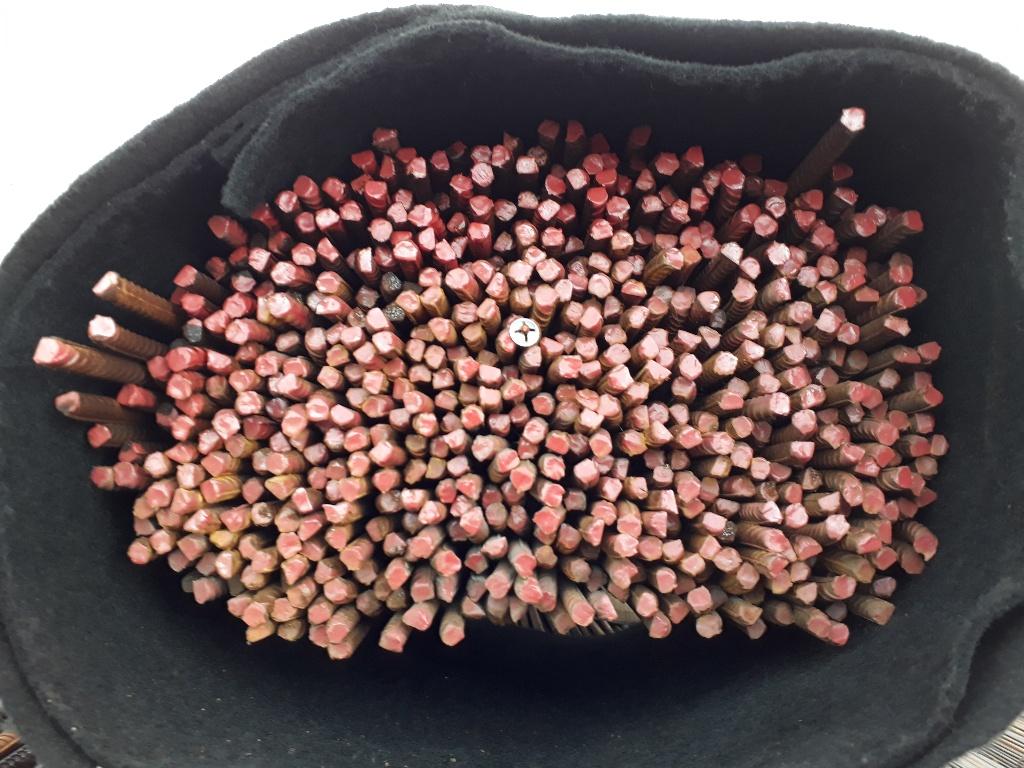dipstick: (645, 487, 682, 515), (913, 526, 940, 563), (673, 470, 703, 503), (211, 408, 242, 439), (220, 504, 253, 533), (385, 558, 413, 591), (320, 576, 353, 604), (176, 462, 208, 490), (263, 475, 298, 500), (402, 604, 433, 632), (91, 270, 122, 298), (220, 291, 252, 318), (274, 500, 300, 533), (297, 511, 325, 541), (141, 450, 171, 478), (433, 573, 460, 604), (398, 486, 430, 512), (339, 477, 372, 502), (183, 508, 216, 533), (177, 534, 210, 559), (823, 514, 852, 542), (281, 408, 309, 437), (372, 466, 402, 493), (369, 440, 399, 467), (276, 530, 303, 560), (341, 427, 372, 453), (268, 260, 299, 286), (782, 363, 814, 388), (669, 423, 702, 447), (166, 441, 199, 465), (654, 150, 682, 178), (620, 428, 648, 456), (281, 557, 309, 585), (88, 313, 116, 341), (849, 211, 878, 238), (792, 409, 821, 436), (687, 584, 714, 613), (588, 270, 615, 299), (512, 220, 541, 247), (356, 588, 383, 617), (53, 389, 82, 416), (532, 506, 566, 529), (900, 545, 926, 575), (620, 304, 650, 330), (165, 373, 195, 399), (417, 499, 448, 524), (796, 384, 828, 408), (241, 416, 274, 439), (174, 393, 207, 416), (677, 353, 705, 380), (765, 278, 793, 305), (670, 285, 698, 312), (459, 402, 486, 430), (483, 272, 511, 299), (588, 428, 614, 457), (413, 410, 442, 436), (377, 628, 406, 654), (338, 546, 367, 572), (315, 236, 341, 265), (169, 414, 198, 440), (224, 315, 250, 344), (695, 612, 725, 637), (455, 474, 485, 499), (881, 314, 912, 338), (783, 300, 814, 324), (431, 551, 462, 575), (363, 394, 395, 417), (319, 502, 354, 523), (814, 307, 841, 334), (870, 601, 897, 628), (616, 512, 643, 539), (543, 429, 570, 456), (471, 258, 498, 285), (444, 265, 471, 292), (364, 515, 391, 542), (344, 450, 371, 477), (324, 523, 351, 550), (145, 483, 172, 510), (87, 422, 114, 449), (715, 547, 743, 573), (641, 509, 669, 535), (535, 256, 563, 282), (322, 424, 348, 452), (653, 566, 678, 595), (729, 441, 754, 470), (460, 505, 485, 534), (579, 516, 603, 546), (729, 474, 760, 497), (470, 161, 496, 188), (683, 142, 709, 169), (612, 533, 639, 559), (645, 420, 671, 447), (696, 322, 723, 348), (513, 553, 539, 580), (539, 454, 565, 481), (470, 434, 497, 460), (455, 355, 481, 382), (290, 241, 317, 267), (266, 292, 293, 318), (190, 578, 217, 604), (197, 429, 224, 455), (647, 611, 672, 639), (607, 364, 635, 389), (574, 457, 599, 485), (557, 521, 582, 549), (459, 597, 487, 622), (370, 421, 398, 446), (255, 351, 283, 376), (131, 495, 159, 520), (891, 343, 920, 367), (772, 569, 796, 598), (670, 376, 699, 400), (643, 359, 672, 383), (593, 594, 617, 623), (510, 467, 534, 496), (235, 391, 264, 415), (863, 485, 886, 515), (661, 536, 684, 566), (516, 581, 546, 604), (507, 504, 529, 535), (114, 383, 145, 405), (321, 176, 347, 202), (587, 130, 613, 156), (917, 338, 943, 364), (237, 533, 263, 559), (239, 564, 265, 590), (271, 597, 297, 623), (839, 106, 866, 131), (830, 573, 857, 598), (758, 499, 785, 524), (767, 390, 792, 417), (711, 350, 738, 375), (590, 500, 617, 525), (522, 417, 547, 444), (403, 458, 428, 485), (326, 619, 351, 646), (283, 585, 310, 610), (306, 396, 331, 423), (282, 354, 309, 379), (240, 476, 265, 503), (150, 529, 175, 556), (154, 402, 181, 427), (36, 335, 61, 362), (669, 198, 693, 226), (792, 206, 816, 234), (914, 454, 942, 478), (854, 454, 882, 478), (553, 354, 581, 378), (352, 285, 380, 309), (352, 561, 380, 585), (302, 442, 330, 466), (314, 271, 342, 295), (165, 347, 193, 371), (235, 343, 267, 364), (736, 603, 765, 626), (737, 562, 760, 591), (677, 496, 706, 519), (738, 338, 767, 361), (505, 260, 534, 283), (375, 490, 404, 513), (317, 366, 346, 389), (417, 266, 448, 287), (368, 217, 393, 243), (589, 217, 615, 242), (720, 167, 745, 193), (878, 365, 904, 390), (681, 552, 707, 577), (640, 535, 665, 561), (708, 454, 733, 480), (693, 409, 719, 434), (762, 322, 787, 348), (671, 285, 696, 311), (566, 558, 592, 583), (482, 534, 508, 559), (574, 335, 600, 360), (227, 243, 252, 269), (820, 423, 844, 450), (708, 431, 735, 455), (731, 278, 758, 302), (564, 432, 591, 456), (577, 360, 604, 384), (452, 300, 479, 324), (396, 287, 420, 314), (250, 500, 274, 527), (243, 602, 270, 626), (204, 256, 228, 283), (465, 220, 493, 243), (638, 191, 666, 214), (766, 239, 789, 267), (570, 600, 593, 628), (500, 377, 528, 400), (246, 623, 274, 646), (205, 348, 233, 371), (180, 316, 203, 344), (698, 511, 727, 533), (229, 368, 258, 390), (431, 238, 456, 263), (657, 180, 682, 205), (873, 546, 898, 571), (667, 600, 692, 625), (495, 447, 520, 472), (447, 518, 472, 543), (552, 330, 577, 355), (561, 300, 586, 325), (371, 329, 396, 354), (266, 229, 291, 254), (251, 447, 276, 472), (405, 156, 429, 182), (565, 165, 591, 189), (493, 198, 519, 222), (814, 280, 840, 304), (762, 528, 788, 552), (611, 564, 635, 590), (625, 475, 649, 501), (599, 476, 623, 502), (439, 624, 465, 648), (555, 400, 581, 424), (426, 317, 452, 341), (383, 530, 407, 556), (311, 560, 337, 584), (113, 461, 139, 485), (608, 228, 635, 251), (902, 207, 925, 234), (875, 500, 902, 523), (587, 567, 610, 594), (532, 284, 559, 307), (431, 388, 458, 411), (155, 506, 182, 529), (200, 453, 227, 476), (715, 389, 746, 409), (514, 153, 542, 175), (699, 476, 721, 504), (726, 416, 754, 438), (734, 318, 762, 340), (539, 226, 567, 248), (564, 117, 585, 146), (714, 496, 743, 517), (314, 297, 346, 316), (173, 265, 198, 289), (205, 214, 230, 238), (338, 199, 363, 223), (634, 167, 659, 191), (739, 151, 763, 176), (816, 253, 840, 278), (720, 240, 744, 265), (896, 494, 920, 519), (873, 445, 898, 469), (636, 592, 660, 617), (750, 419, 774, 444), (645, 296, 670, 320), (554, 611, 578, 636), (533, 544, 558, 568), (540, 483, 565, 507), (576, 386, 600, 411), (550, 277, 574, 302), (346, 385, 371, 409), (306, 623, 330, 648), (264, 452, 289, 476), (118, 439, 143, 463), (351, 172, 377, 195), (447, 173, 473, 196), (629, 124, 655, 147), (887, 408, 913, 431), (906, 434, 932, 457), (763, 553, 789, 576), (597, 392, 620, 418), (587, 251, 613, 274), (292, 488, 315, 514), (325, 454, 348, 480), (248, 246, 271, 272), (265, 394, 288, 420), (289, 427, 312, 453), (170, 488, 193, 514), (204, 309, 230, 332), (833, 185, 860, 207), (834, 273, 867, 291), (750, 455, 772, 482), (562, 490, 589, 512), (424, 343, 446, 370), (277, 620, 304, 642), (814, 366, 842, 387), (755, 372, 783, 393), (508, 596, 529, 624), (436, 476, 457, 504), (407, 362, 435, 383), (930, 430, 950, 459), (603, 343, 632, 363), (408, 322, 437, 342), (379, 356, 408, 376), (408, 203, 432, 227), (489, 144, 513, 168), (763, 195, 787, 219), (754, 213, 778, 237), (797, 265, 821, 289), (837, 322, 861, 346), (773, 602, 797, 626), (796, 580, 820, 604), (509, 400, 533, 424), (425, 457, 449, 481), (304, 465, 328, 489), (340, 324, 364, 348), (267, 430, 291, 454), (224, 434, 248, 458), (606, 194, 629, 219), (688, 186, 711, 211), (786, 244, 811, 267), (843, 400, 866, 425), (807, 614, 830, 639), (745, 616, 768, 641), (786, 502, 809, 527), (625, 379, 650, 402), (484, 573, 509, 596), (484, 594, 509, 617), (530, 393, 555, 416), (475, 298, 500, 321), (365, 307, 390, 330), (326, 345, 351, 368), (291, 211, 316, 234), (275, 329, 300, 352), (251, 551, 276, 574), (274, 190, 300, 212), (468, 194, 494, 216), (631, 223, 657, 245), (798, 188, 824, 210), (812, 224, 834, 250), (825, 600, 851, 622), (626, 404, 648, 430), (609, 260, 635, 282), (465, 575, 487, 601), (463, 552, 489, 574), (476, 384, 502, 406), (412, 535, 434, 561), (304, 326, 326, 352), (178, 292, 205, 313), (350, 148, 377, 169), (593, 168, 620, 189), (816, 491, 843, 512), (517, 435, 538, 462), (443, 430, 470, 451), (330, 404, 357, 425), (314, 206, 341, 227), (428, 190, 456, 210), (450, 495, 478, 515), (601, 324, 629, 344), (497, 326, 517, 354), (739, 201, 762, 225), (680, 225, 703, 249), (739, 256, 763, 279), (847, 348, 871, 371), (912, 409, 935, 433), (801, 467, 825, 490), (699, 535, 723, 558), (698, 289, 722, 312), (446, 453, 470, 476), (90, 465, 113, 489), (146, 355, 169, 379), (208, 530, 237, 549), (468, 143, 493, 165), (776, 257, 801, 279), (915, 487, 940, 509), (843, 482, 865, 507), (798, 539, 823, 561), (532, 592, 557, 614), (511, 284, 533, 309), (428, 433, 450, 458), (385, 588, 410, 610), (352, 341, 377, 363), (763, 177, 789, 198), (874, 519, 895, 545), (642, 447, 668, 468), (409, 582, 435, 603), (474, 345, 500, 366), (565, 270, 591, 291), (420, 284, 446, 305), (126, 540, 152, 561), (887, 250, 914, 270), (887, 265, 914, 285), (676, 328, 703, 348), (400, 513, 427, 533), (327, 641, 354, 661), (370, 126, 398, 145), (788, 440, 816, 459), (230, 271, 258, 290), (660, 247, 683, 270), (894, 286, 917, 309), (402, 390, 425, 413), (363, 370, 386, 393), (344, 305, 367, 328), (247, 229, 270, 252), (205, 374, 228, 397), (537, 118, 561, 140), (542, 174, 566, 196), (872, 576, 896, 598), (743, 583, 767, 605), (770, 460, 794, 482), (501, 480, 525, 502), (540, 335, 564, 357), (492, 230, 516, 252), (392, 375, 414, 399), (374, 243, 396, 267), (133, 515, 157, 537), (363, 180, 388, 201), (842, 441, 867, 462), (863, 385, 884, 410), (637, 334, 658, 359), (603, 293, 624, 318), (461, 322, 486, 343), (620, 278, 649, 296), (416, 225, 436, 251), (854, 557, 874, 583), (578, 408, 604, 428), (374, 574, 394, 600), (216, 552, 236, 578), (854, 285, 881, 304), (857, 533, 884, 552), (437, 409, 464, 428), (228, 598, 255, 617), (427, 150, 450, 172), (445, 211, 467, 234), (582, 152, 604, 175), (699, 237, 722, 259), (869, 400, 891, 423), (843, 380, 865, 403), (783, 481, 805, 504), (669, 402, 691, 425), (482, 485, 504, 508), (567, 255, 590, 277), (680, 242, 702, 265), (405, 433, 428, 455), (224, 574, 247, 596), (196, 553, 219, 575), (394, 239, 418, 260), (597, 151, 621, 172), (920, 386, 944, 407), (708, 585, 729, 609), (647, 402, 671, 423), (534, 525, 558, 546), (485, 503, 506, 527), (487, 413, 511, 434), (522, 344, 543, 368), (458, 382, 482, 403), (581, 306, 602, 330), (383, 300, 407, 321), (389, 407, 413, 428), (307, 602, 331, 623), (199, 479, 220, 503), (535, 199, 560, 219), (478, 363, 503, 383), (817, 407, 843, 426), (752, 357, 778, 376), (612, 455, 631, 481), (555, 383, 581, 402), (556, 201, 578, 223), (515, 189, 538, 210), (701, 169, 722, 192), (790, 560, 811, 583), (760, 479, 781, 502), (727, 376, 750, 397), (591, 452, 612, 475), (404, 338, 425, 361), (276, 372, 299, 393), (168, 549, 189, 572), (293, 174, 313, 198), (613, 172, 633, 196), (827, 343, 847, 367), (830, 622, 850, 646), (783, 343, 807, 363), (431, 368, 455, 388), (843, 259, 871, 276), (831, 162, 856, 181), (844, 244, 869, 263), (865, 204, 887, 225), (913, 370, 935, 391), (668, 449, 689, 471), (782, 323, 804, 344), (748, 309, 770, 330), (527, 142, 547, 165), (779, 539, 799, 562), (802, 336, 822, 359), (580, 541, 603, 561), (306, 290, 329, 310), (299, 540, 323, 559), (895, 466, 913, 491), (562, 234, 587, 252), (500, 132, 521, 153), (652, 464, 673, 485), (387, 202, 407, 224), (393, 187, 413, 209), (627, 254, 647, 276), (343, 362, 365, 382), (249, 201, 271, 221), (326, 322, 346, 344), (521, 371, 544, 390), (651, 284, 675, 302), (521, 246, 546, 263), (355, 247, 372, 272), (743, 175, 764, 195), (587, 187, 609, 206), (580, 294, 602, 313), (395, 147, 418, 165), (629, 563, 647, 586), (657, 344, 675, 367), (655, 232, 679, 249), (910, 470, 925, 497), (696, 219, 716, 239), (719, 521, 738, 542), (381, 271, 400, 292), (665, 511, 683, 533), (648, 328, 670, 346), (323, 478, 341, 500), (389, 229, 413, 245), (445, 140, 466, 158), (709, 307, 727, 328), (502, 363, 523, 381), (447, 346, 472, 361), (485, 254, 508, 270), (717, 157, 739, 173), (830, 303, 848, 322), (503, 312, 527, 326), (180, 574, 197, 593), (914, 283, 928, 305), (630, 153, 648, 170), (548, 162, 566, 178), (400, 280, 420, 294), (885, 204, 902, 220), (461, 259, 476, 277), (809, 217, 827, 231)
